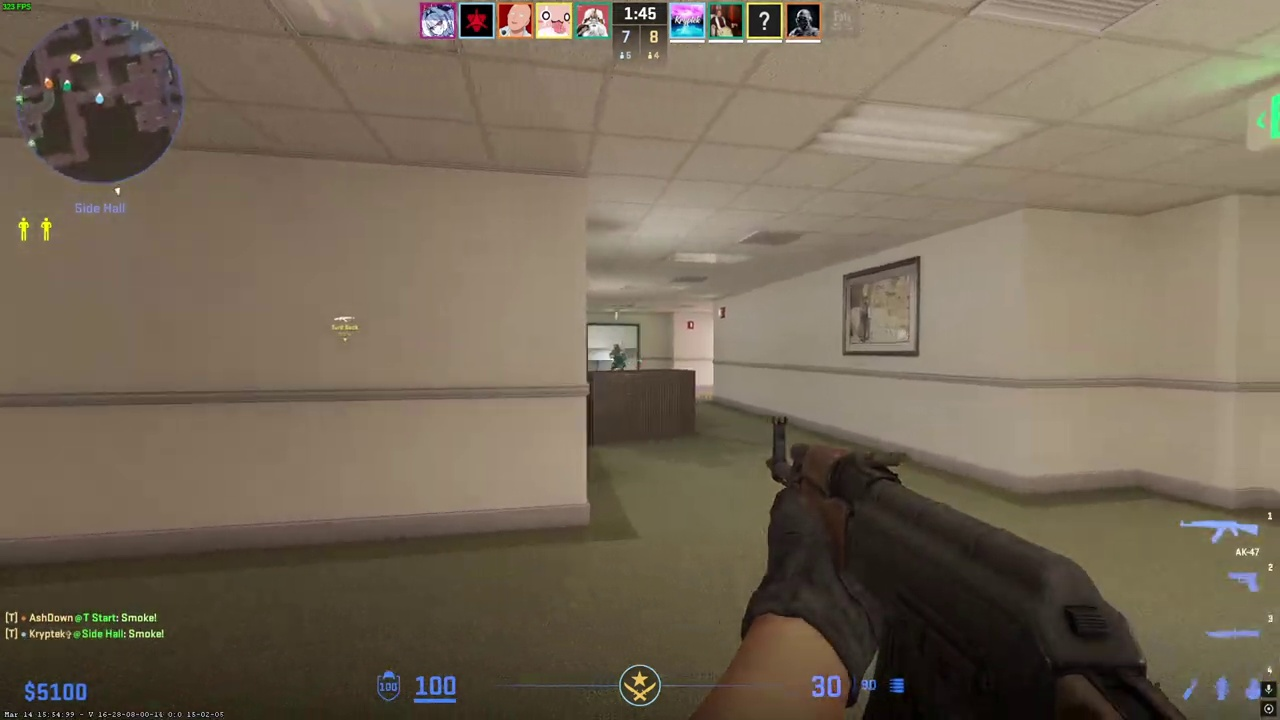CT: (609, 343, 626, 372)
